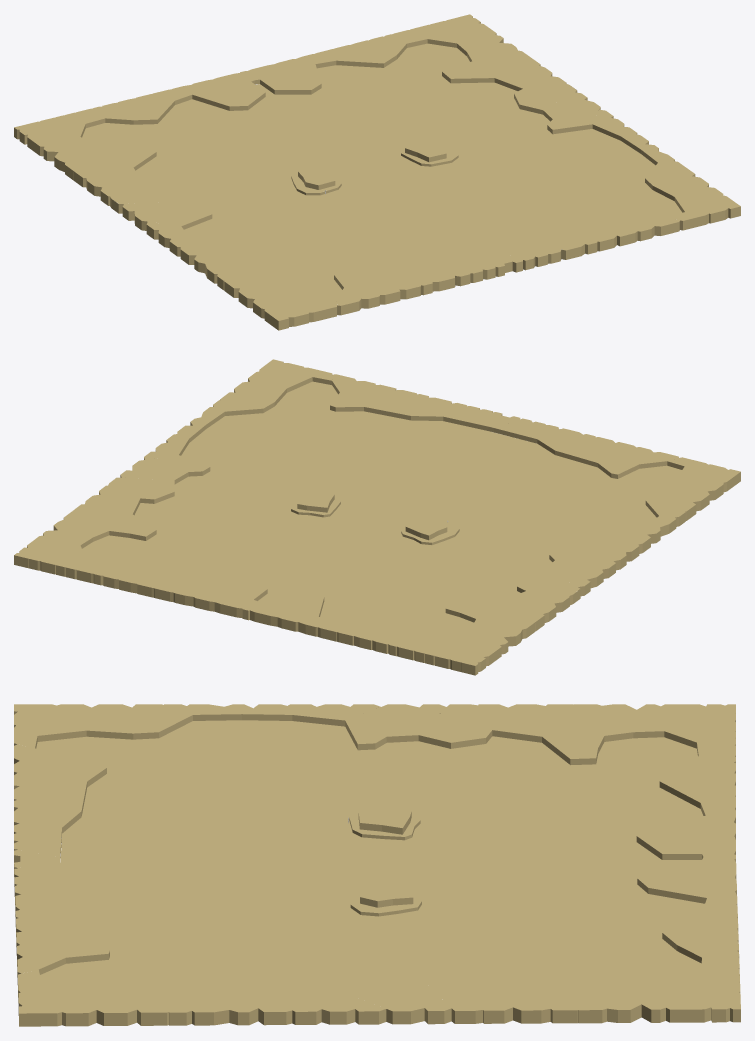
The model's file is MapPrototype.fbx.
3 renders of one model, top to bottom at view 1: azimuth 30°, elevation 25°; view 2: azimuth 150°, elevation 25°; view 3: azimuth 270°, elevation 25°, orthographic. The views are drawn at different scales.
Parts seen in each view (by area): view 1: PlayArea, NotWalkabel; view 2: PlayArea, NotWalkabel; view 3: PlayArea, NotWalkabel.
Boxes of the visible parts, x1=… form: PlayArea: x1=82, y1=43, x2=682, y2=302; NotWalkabel: x1=14, y1=14, x2=740, y2=330; PlayArea: x1=82, y1=381, x2=681, y2=641; NotWalkabel: x1=14, y1=359, x2=740, y2=675; PlayArea: x1=36, y1=720, x2=704, y2=1002; NotWalkabel: x1=14, y1=704, x2=740, y2=1026.
Size of the model in its own units: 20267 by 514 by 20140.
